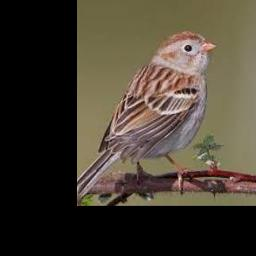Sparrow: (77, 31, 216, 202)
